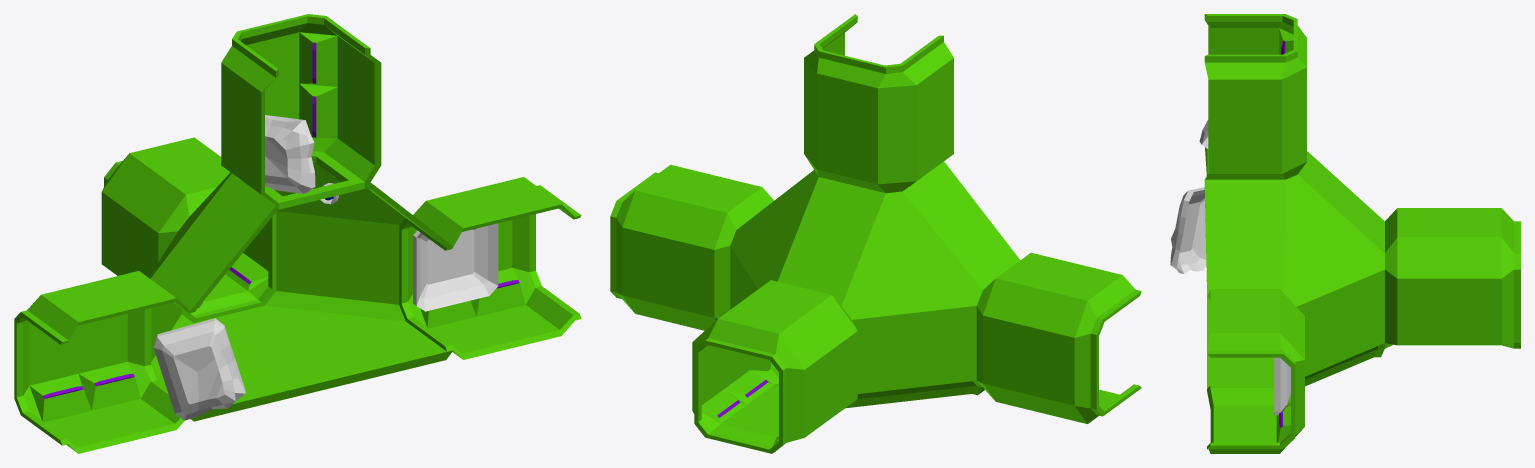
The model's file is HallSegment_Vestibule.fbx.
The picture shows the model from 3 angles, left to right: view 1: azimuth 30°, elevation 25°; view 2: azimuth 150°, elevation 25°; view 3: azimuth 270°, elevation 25°; orthographic projection. The views are drawn at different scales.
Visible parts, largest first — view 1: Cube, Cube.004, Cube.003, Cube.001; view 2: Cube; view 3: Cube, Cube.004, Cube.003.
Part boxes in pixels (x1,y1,x2,y2): Cube: (14, 14, 581, 453); Cube.004: (153, 318, 245, 420); Cube.003: (413, 223, 498, 311); Cube.001: (237, 115, 315, 193); Cube: (610, 14, 1141, 453); Cube: (1204, 14, 1520, 453); Cube.004: (1170, 187, 1206, 274); Cube.003: (1274, 357, 1290, 415).
Bounding box in the file's own units: 1619 × 1006 × 1030.
